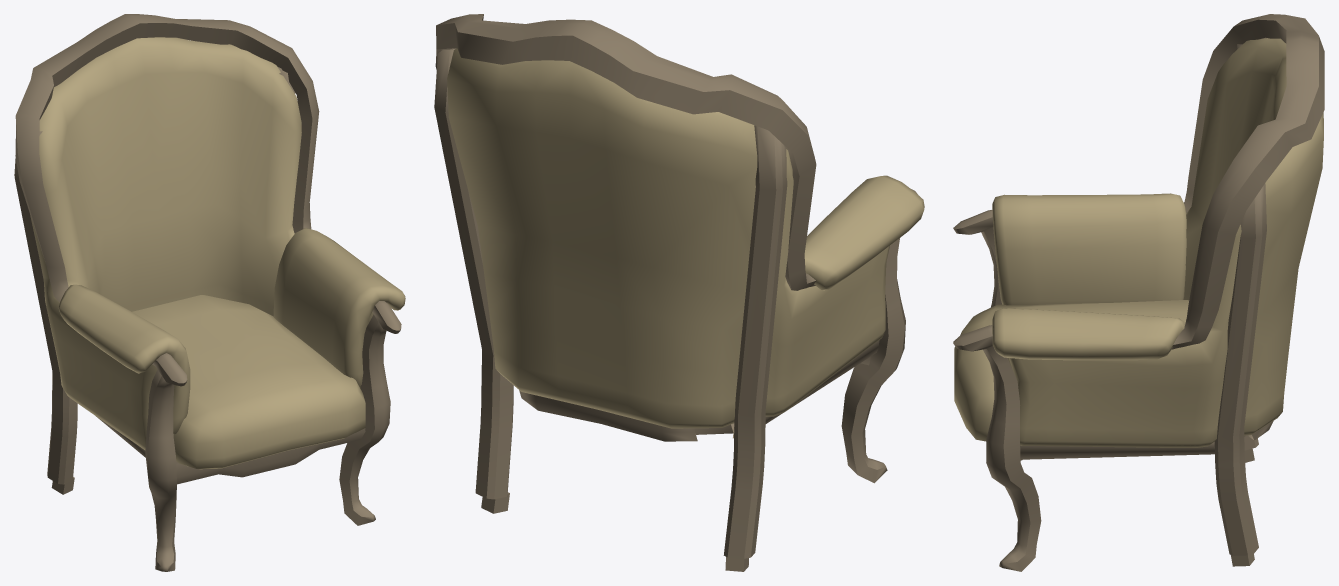
The model's file is ChairPlush.fbx.
3 renders of one model, left to right at view 1: azimuth 30°, elevation 25°; view 2: azimuth 150°, elevation 25°; view 3: azimuth 270°, elevation 25°, orthographic. The views are drawn at different scales.
Visible parts, largest first — view 1: ChairPlush; view 2: ChairPlush; view 3: ChairPlush.
Boxes of the visible parts, left/top/right/bottom form: ChairPlush: left=14, top=14, right=405, bottom=571; ChairPlush: left=434, top=14, right=924, bottom=571; ChairPlush: left=953, top=14, right=1324, bottom=571.
Size of the model in its own units: 155 by 217 by 153.
